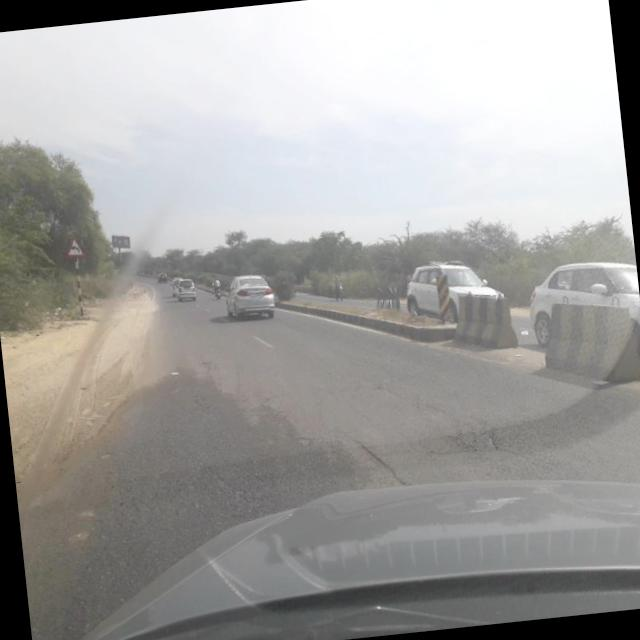crack: (404, 372, 528, 474), (344, 428, 414, 490)
